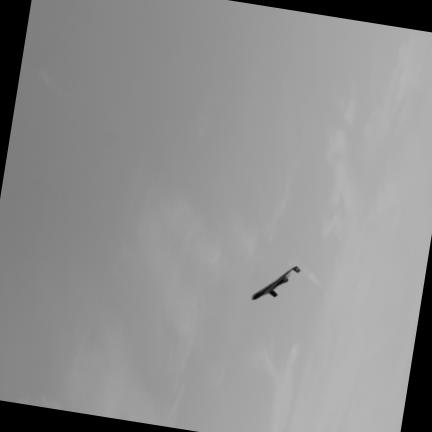Shahed: (252, 266, 299, 298)
